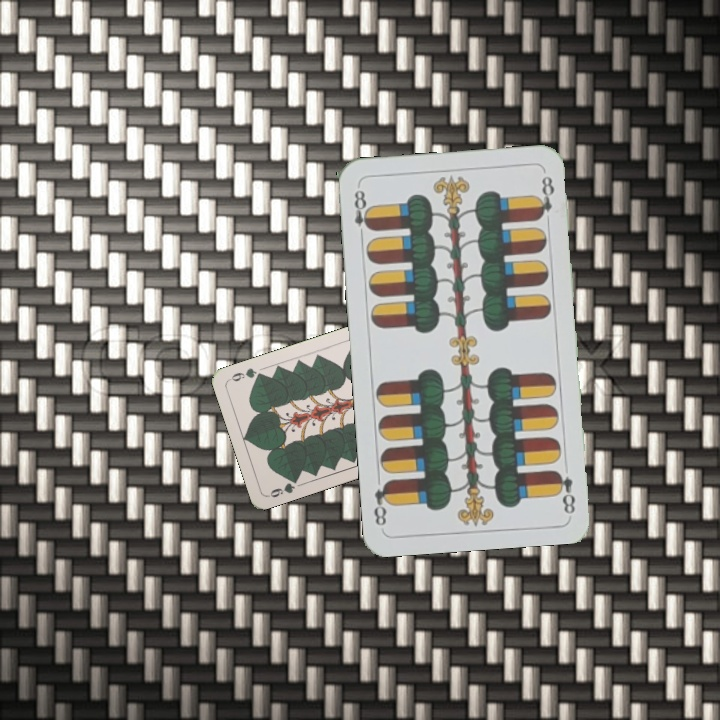E8: (350, 186, 375, 242), (551, 466, 578, 516)
G9: (264, 473, 301, 500)
